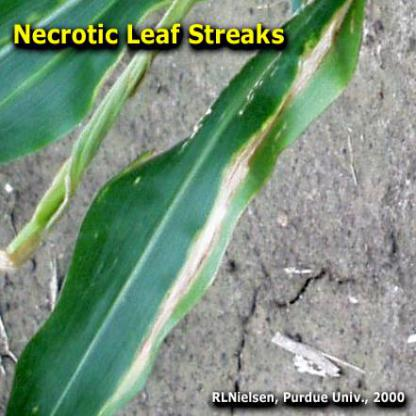corn leaf blight: (42, 51, 351, 381)
